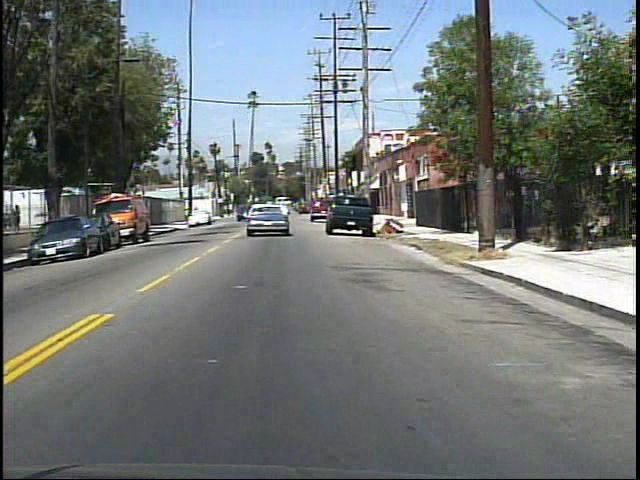person: (13, 203, 24, 235)
